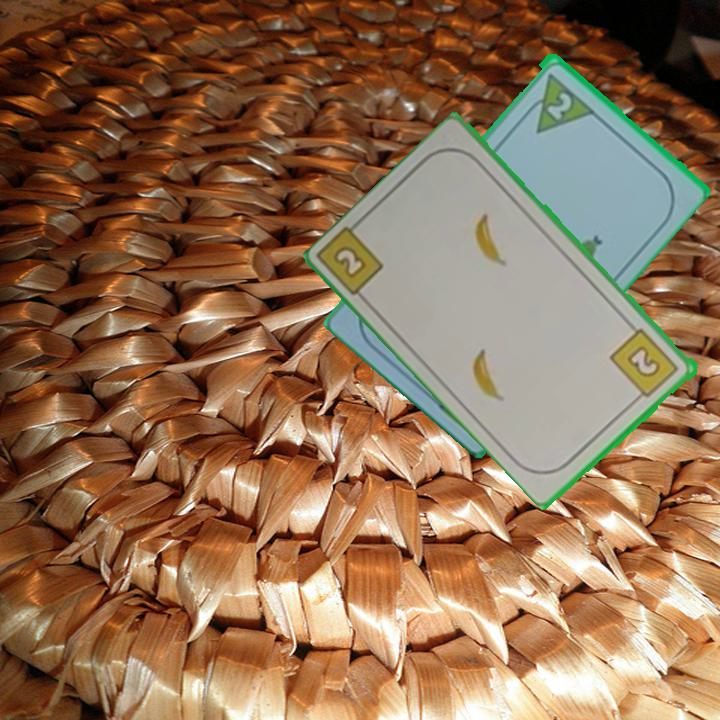2b: (607, 325, 682, 405), (330, 242, 370, 282)
2p: (517, 69, 596, 136)
